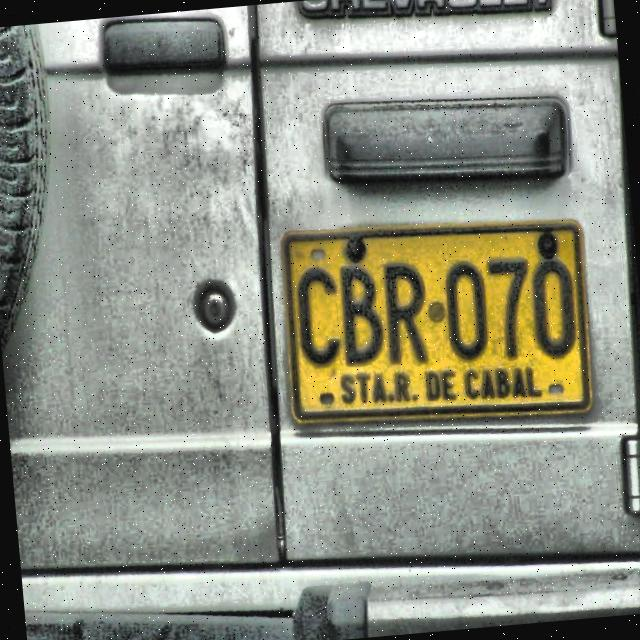plate: (286, 225, 588, 417)
